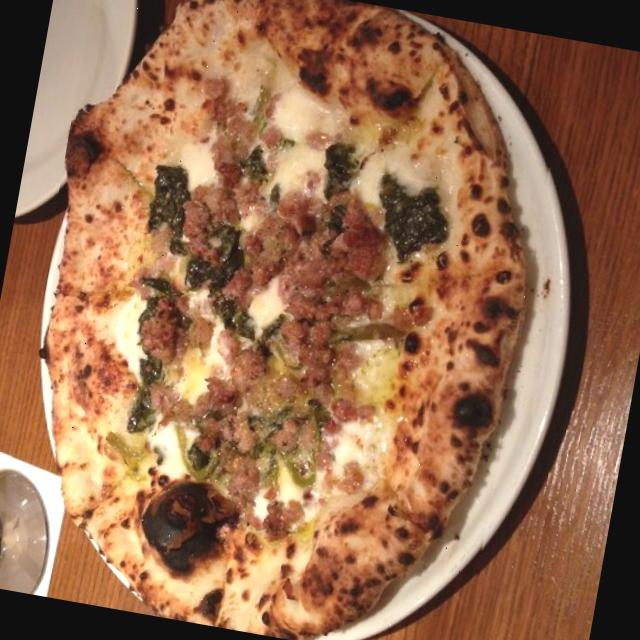basil: (362, 172, 458, 270), (304, 136, 364, 248), (176, 218, 248, 304), (138, 162, 194, 238), (121, 352, 168, 435)
pizza: (44, 0, 525, 640)
